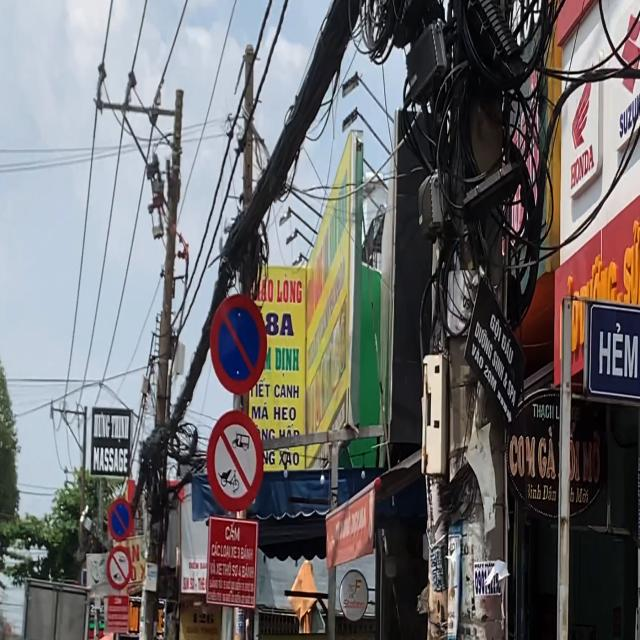Cam con lai: (207, 407, 262, 514), (107, 545, 131, 590)
Cam do: (210, 294, 268, 396), (109, 498, 132, 542)
